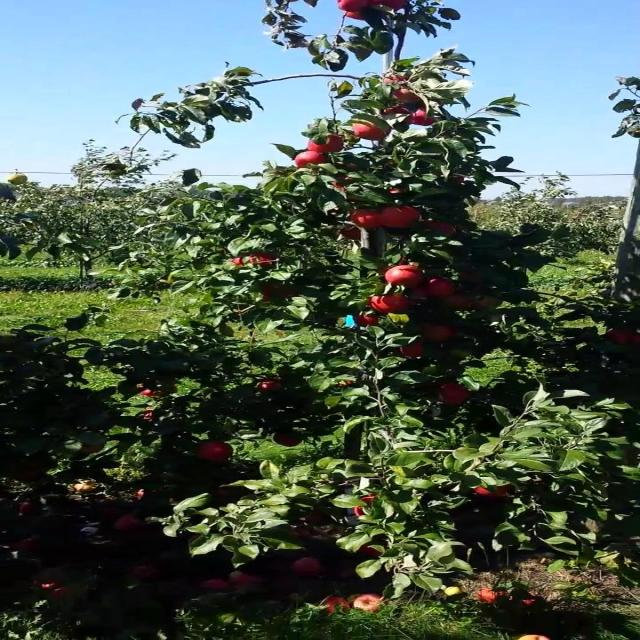apple: (198, 440, 235, 464), (383, 268, 427, 288), (383, 208, 421, 229), (355, 120, 391, 141), (440, 384, 473, 406), (134, 384, 178, 400), (348, 212, 384, 231), (376, 296, 412, 315), (426, 324, 459, 344), (241, 252, 279, 269), (312, 136, 348, 152), (397, 340, 427, 359), (476, 484, 514, 499), (426, 280, 457, 298), (298, 152, 329, 168), (390, 88, 421, 104), (383, 72, 416, 87), (276, 432, 306, 448), (355, 496, 379, 516), (13, 468, 44, 482), (611, 328, 635, 345), (342, 8, 373, 21), (376, 0, 411, 11), (412, 112, 436, 128), (426, 224, 457, 236), (447, 296, 473, 310), (476, 296, 503, 309), (333, 176, 356, 191), (355, 316, 382, 328), (369, 296, 386, 313), (340, 228, 364, 240), (262, 284, 277, 303), (262, 380, 284, 392), (412, 288, 432, 301), (340, 4, 372, 12), (141, 408, 158, 423), (348, 12, 375, 21), (390, 108, 412, 119), (84, 444, 105, 455), (461, 272, 484, 282), (383, 108, 404, 118), (333, 380, 356, 388), (355, 504, 370, 516), (362, 496, 379, 505), (454, 176, 469, 185)
